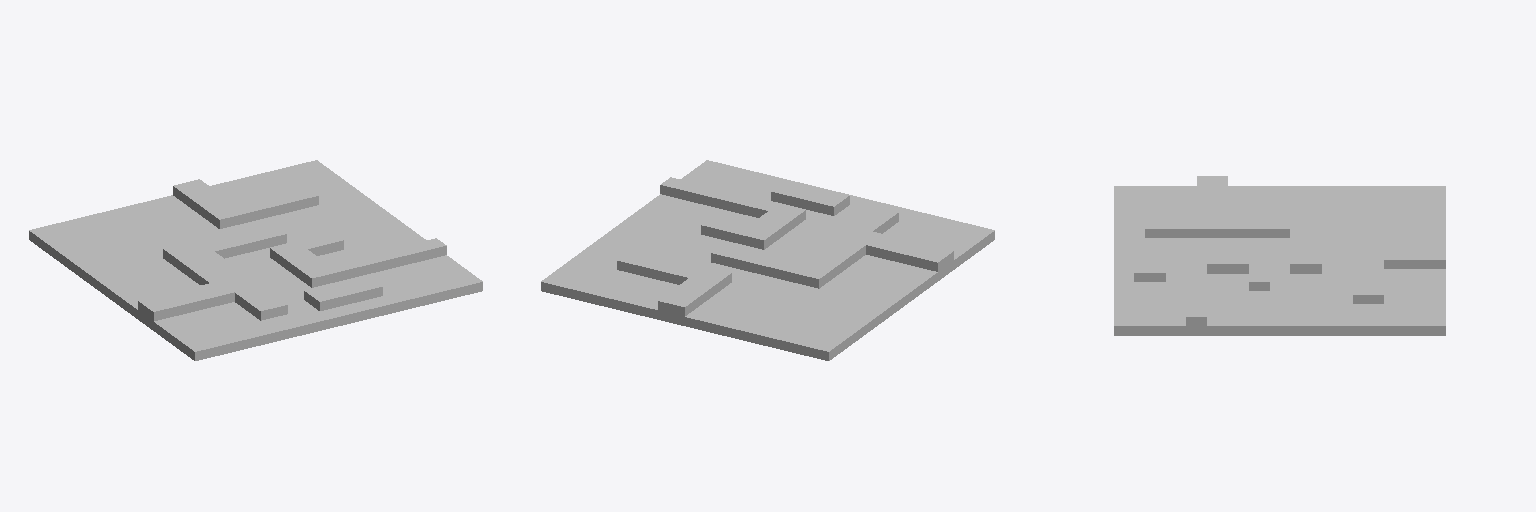
File: niveau 5.obj
3 views of the same model, side by side, from view 1: azimuth 30°, elevation 25°; view 2: azimuth 150°, elevation 25°; view 3: azimuth 270°, elevation 25° (orthographic).
Parts seen in each view (by area): view 1: Niveau 5; view 2: Niveau 5; view 3: Niveau 5.
Boxes of the visible parts, x1=… form: Niveau 5: x1=29, y1=160, x2=482, y2=360; Niveau 5: x1=541, y1=160, x2=994, y2=360; Niveau 5: x1=1114, y1=176, x2=1445, y2=335.
Size of the model in its own units: 3.2 by 0.2 by 3.2.